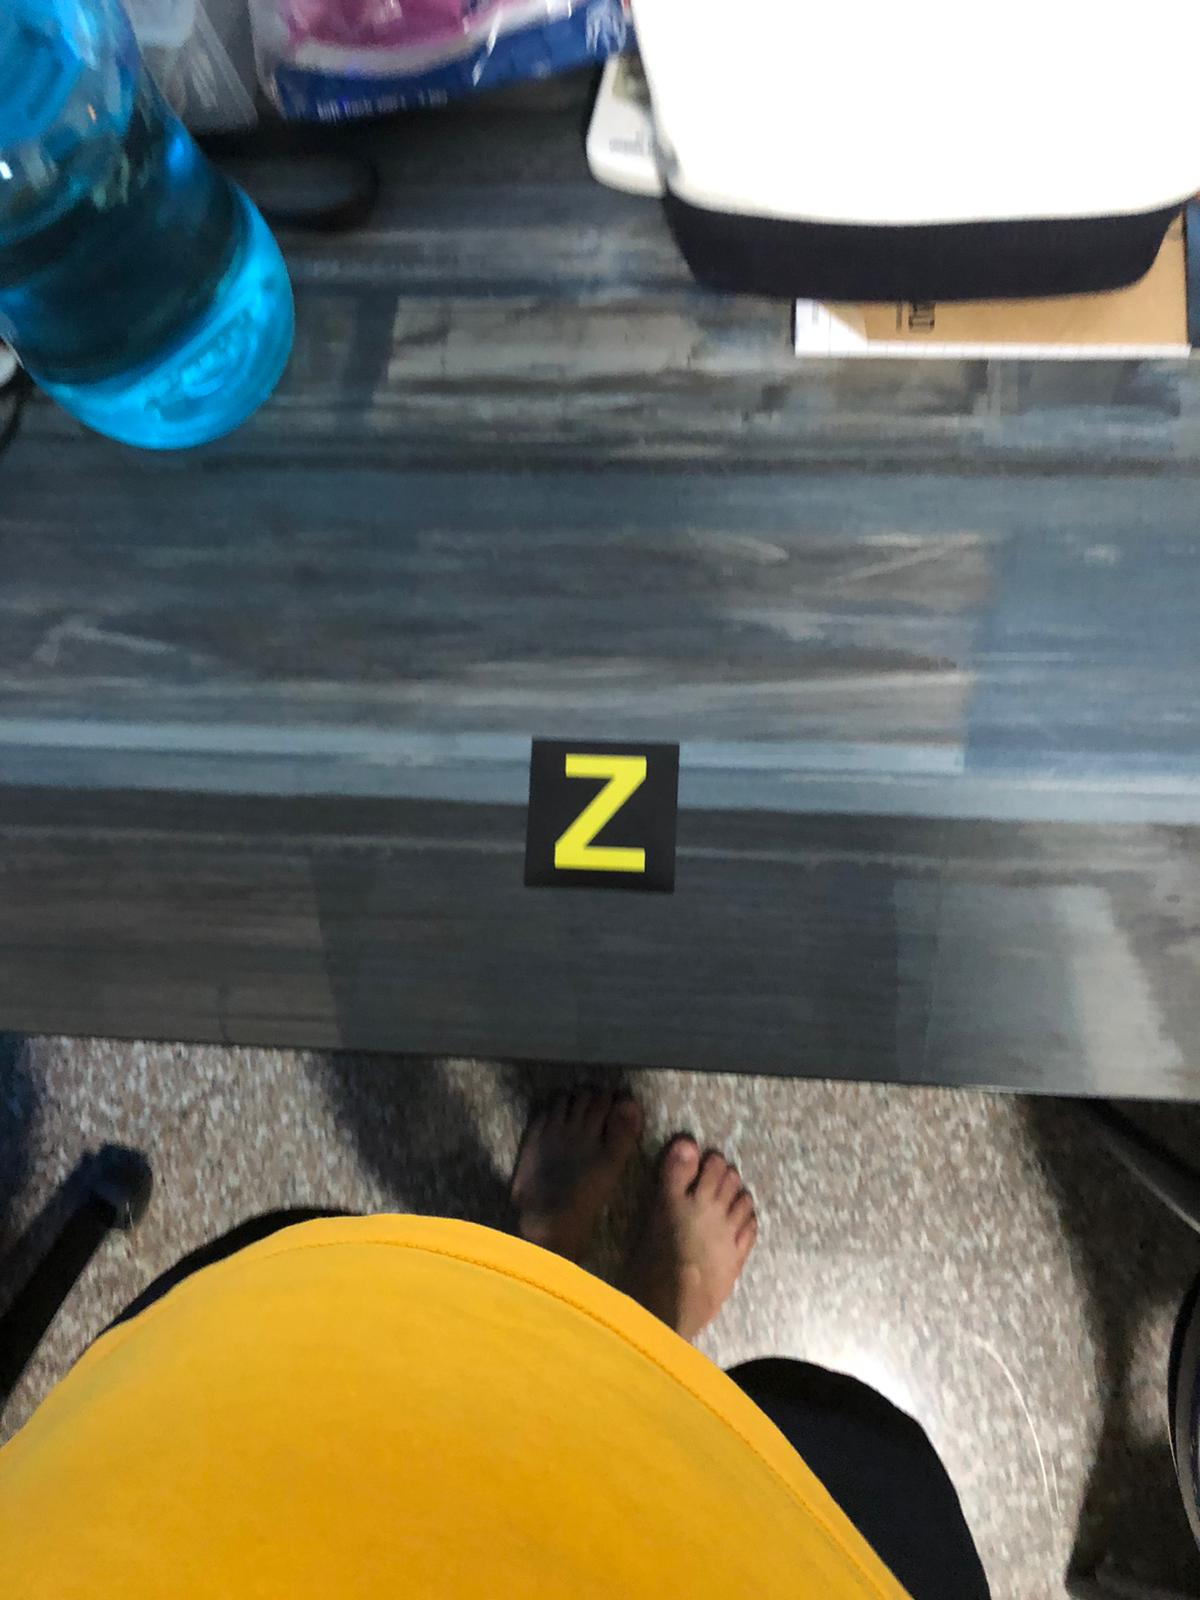Z: (532, 740, 673, 888)
